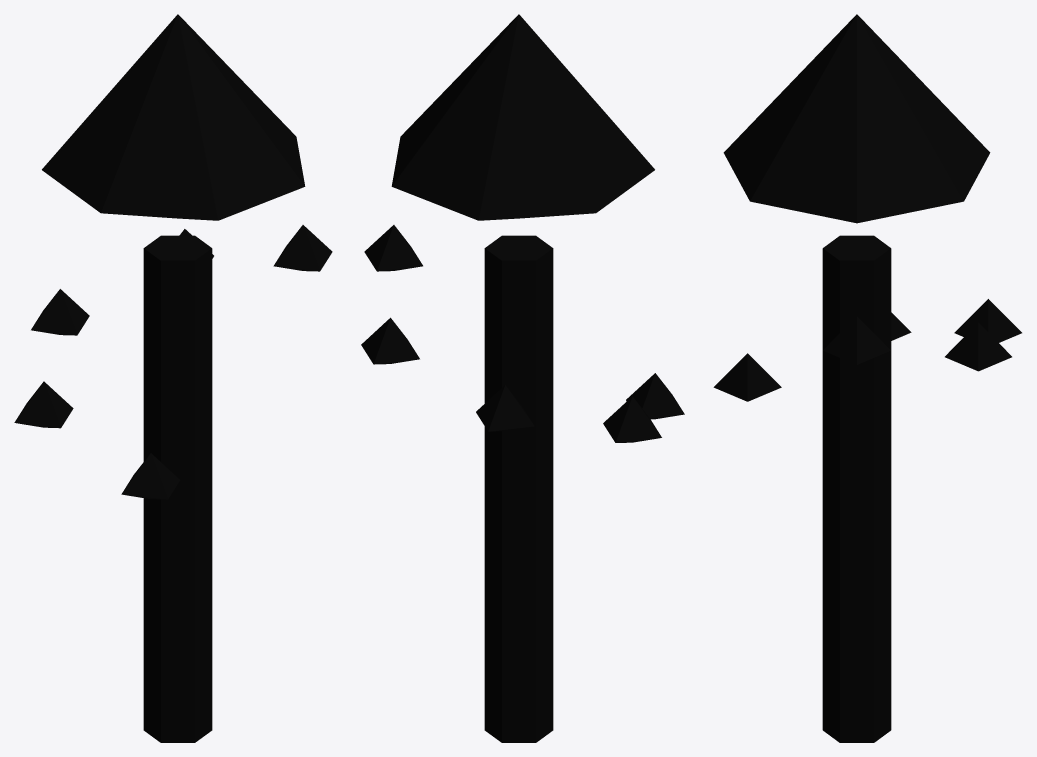
The model's file is rival_bone_rattle.obj.
The picture shows the model from 3 angles, left to right: view 1: azimuth 30°, elevation 25°; view 2: azimuth 150°, elevation 25°; view 3: azimuth 270°, elevation 25°; orthographic projection.
Parts seen in each view (by area): view 1: rival_bone_rattle; view 2: rival_bone_rattle; view 3: rival_bone_rattle.
Boxes of the visible parts, x1,y1,x2,y2 form: rival_bone_rattle: (14,14,332,742); rival_bone_rattle: (361,14,684,742); rival_bone_rattle: (713,14,1021,742).
Size of the model in its own units: 0.2926 by 0.65 by 0.2541.
